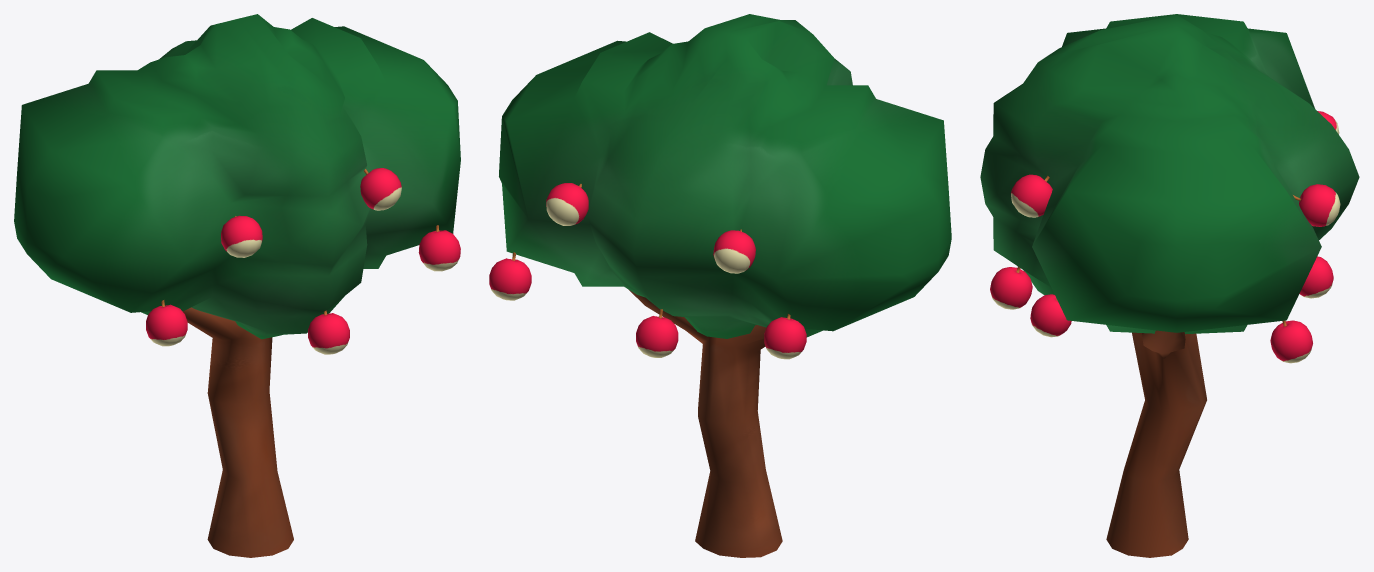
The model's file is AppleTree2.fbx.
3 renders of one model, left to right at view 1: azimuth 30°, elevation 25°; view 2: azimuth 150°, elevation 25°; view 3: azimuth 270°, elevation 25°, orthographic.
Parts seen in each view (by area): view 1: Cylinder.002, Cube.013, Cube.009, Cube.011, Cube.010, Cube.016; view 2: Cylinder.002, Cube.004, Cube.005, Cube.007, Cube.001, Cube.002; view 3: Cylinder.002, Cube.005, Cube.009, Cube.004, Cube.016, Cube.010, Cube.001.
Boxes of the visible parts, box(x1,y1,x2,y2) form: Cylinder.002: box(14, 14, 460, 557); Cube.013: box(146, 300, 187, 346); Cube.009: box(308, 310, 349, 354); Cube.011: box(221, 215, 262, 257); Cube.010: box(418, 225, 460, 271); Cube.016: box(360, 168, 401, 210); Cylinder.002: box(499, 14, 951, 557); Cube.004: box(546, 183, 588, 225); Cube.005: box(489, 252, 531, 300); Cube.007: box(713, 229, 755, 273); Cube.001: box(636, 309, 678, 357); Cube.002: box(764, 314, 806, 359); Cylinder.002: box(980, 14, 1359, 557); Cube.005: box(1270, 320, 1312, 363); Cube.009: box(990, 266, 1032, 309); Cube.004: box(1293, 184, 1340, 226); Cube.016: box(1011, 174, 1052, 217); Cube.010: box(1030, 294, 1071, 337); Cube.001: box(1299, 256, 1333, 298).
Size of the model in its own units: 821 by 953 by 636.
Materials: 2 (2 with a texture image).
